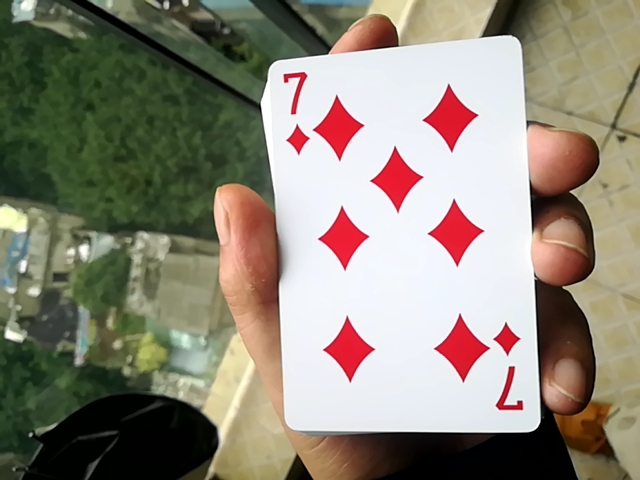fk 7: (245, 27, 543, 426)
